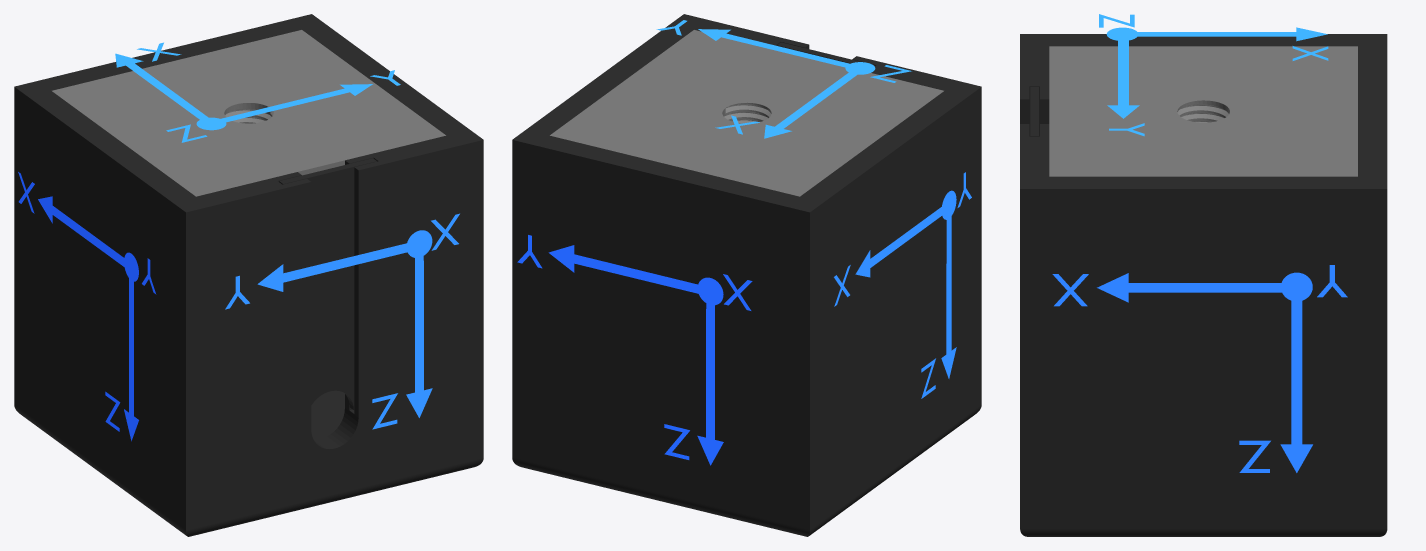
File: IIS3DWB MODEL FOR IENTATION.glb
The picture shows the model from 3 angles, left to right: view 1: azimuth 30°, elevation 25°; view 2: azimuth 150°, elevation 25°; view 3: azimuth 270°, elevation 25°; orthographic projection. The views are drawn at different scales.
Visible parts, largest first — view 1: IIS3DWB MINI ENCLOSURE_V5, Metal Base, IIS3DWB MINI ENCLOSURE SLOT V2, Circle.003, Circle.004, Circle.005; view 2: IIS3DWB MINI ENCLOSURE_V5, Metal Base, Circle.001, Circle.004, Circle.005; view 3: IIS3DWB MINI ENCLOSURE_V5, Metal Base, Circle.002, Circle.005.
Boxes of the visible parts, x1,y1,x2,y2 form: IIS3DWB MINI ENCLOSURE_V5: [14, 14, 483, 536]; Metal Base: [52, 30, 445, 196]; IIS3DWB MINI ENCLOSURE SLOT V2: [279, 158, 376, 409]; Circle.003: [257, 230, 432, 417]; Circle.004: [38, 196, 138, 441]; Circle.005: [115, 53, 372, 130]; IIS3DWB MINI ENCLOSURE_V5: [512, 14, 981, 536]; Metal Base: [550, 30, 943, 196]; Circle.001: [548, 245, 723, 465]; Circle.004: [855, 190, 956, 378]; Circle.005: [698, 29, 875, 138]; IIS3DWB MINI ENCLOSURE_V5: [1020, 34, 1387, 536]; Metal Base: [1049, 46, 1357, 176]; Circle.002: [1097, 272, 1312, 472]; Circle.005: [1106, 27, 1327, 118].
Size of the model in its own units: 41.13 by 45.58 by 41.31.
